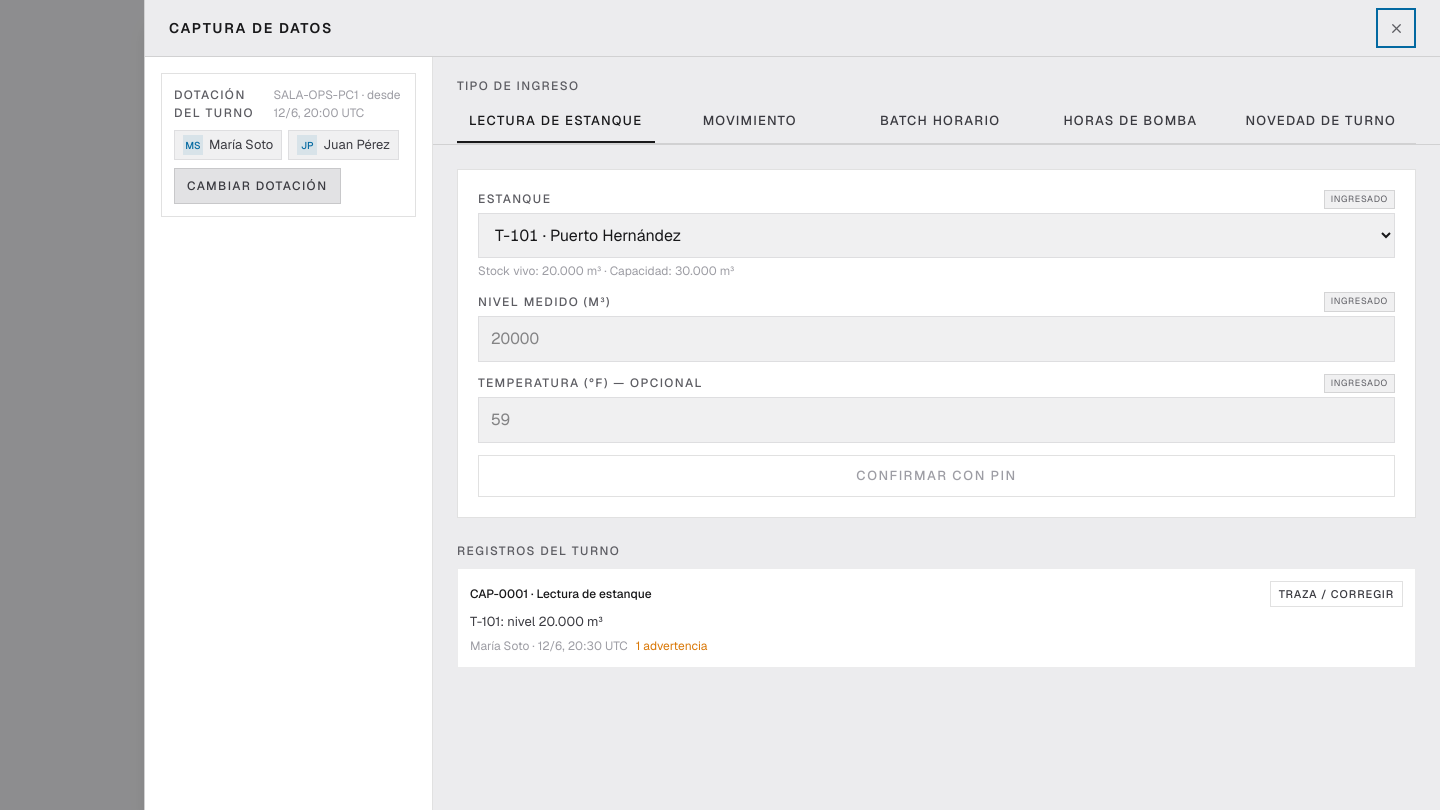
Test: CaptureDrawer › lists committed records in the shift ledger and expands their trail
Check: the text "CAP-0001 · Lectura de estanque" is shown, box x1=470 y1=585 x2=652 y2=603
Click the button "Traza / Corregir". click: (1336, 594)
box: x1=1270 y1=580 x2=1403 y2=607
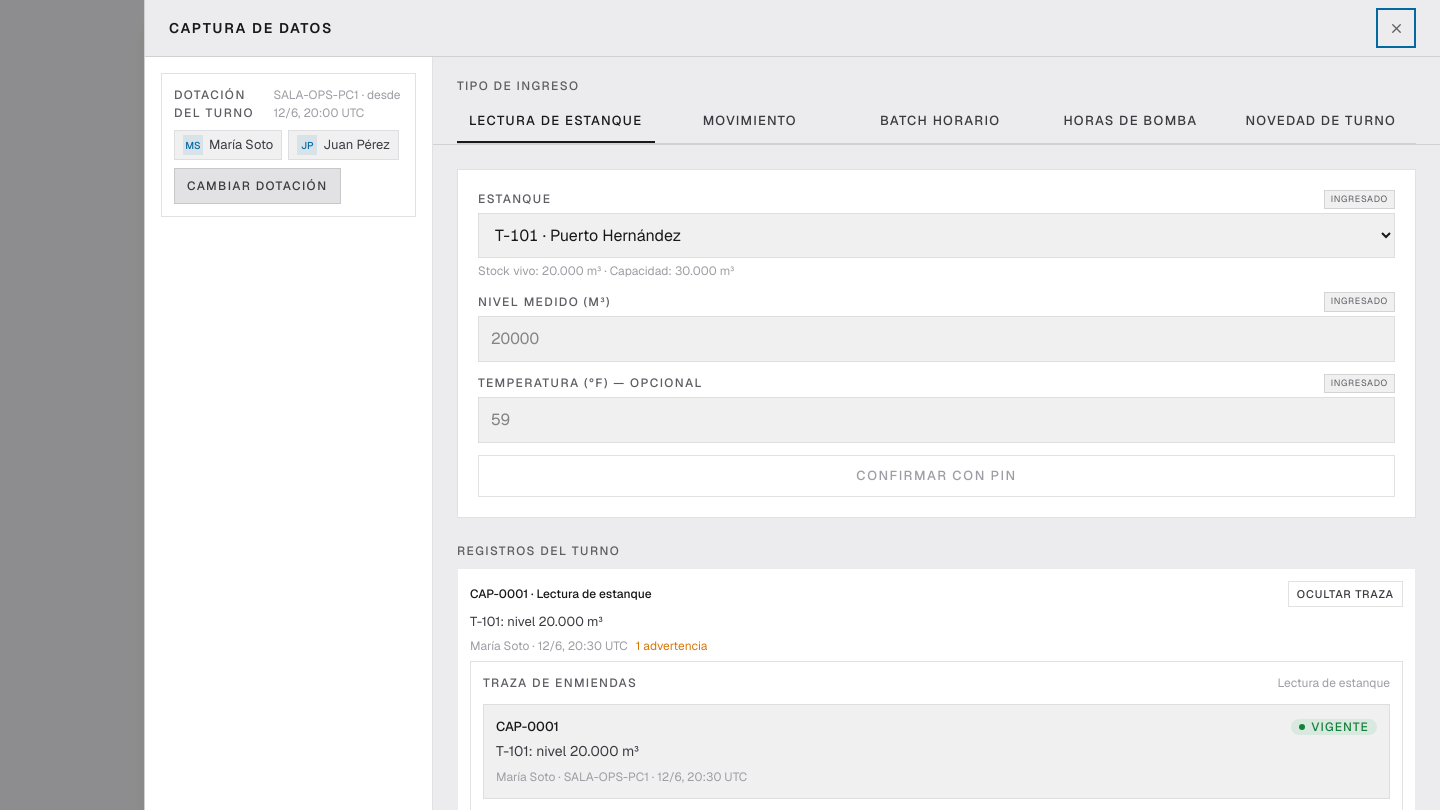
Check: the heading "Traza de enmiendas" is shown, box x1=483 y1=674 x2=637 y2=692
Check: the text "VIGENTE" is shown, box x1=1311 y1=721 x2=1369 y2=733
